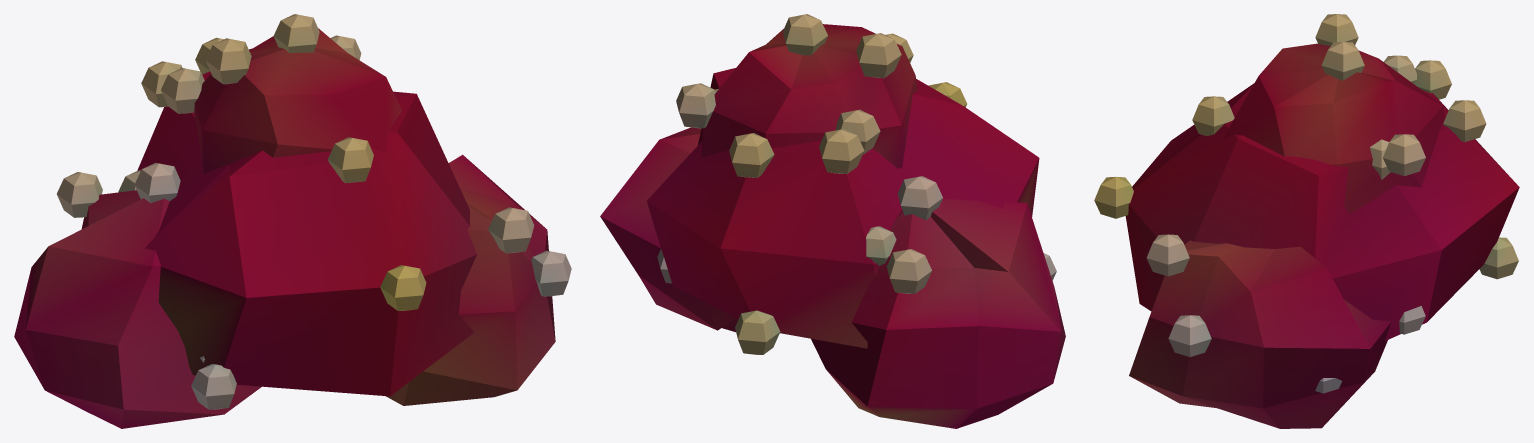
File: Bush_Blossom_01.glb
3 views of the same model, side by side, from view 1: azimuth 30°, elevation 25°; view 2: azimuth 150°, elevation 25°; view 3: azimuth 270°, elevation 25° (orthographic). The views are drawn at different scales.
Parts seen in each view (by area): view 1: Bush_Blossom_01; view 2: Bush_Blossom_01; view 3: Bush_Blossom_01.
Part boxes in pixels (box(x1,y1,x2,y2)): Bush_Blossom_01: box(14, 14, 571, 428); Bush_Blossom_01: box(600, 14, 1065, 428); Bush_Blossom_01: box(1094, 14, 1519, 428).
Bounding box in the file's own units: 1.65 × 1.17 × 1.4.
